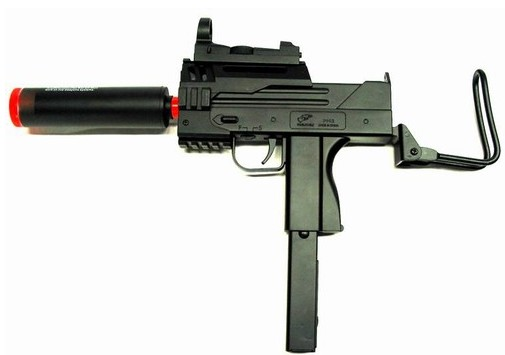rifle: (12, 17, 483, 333)
